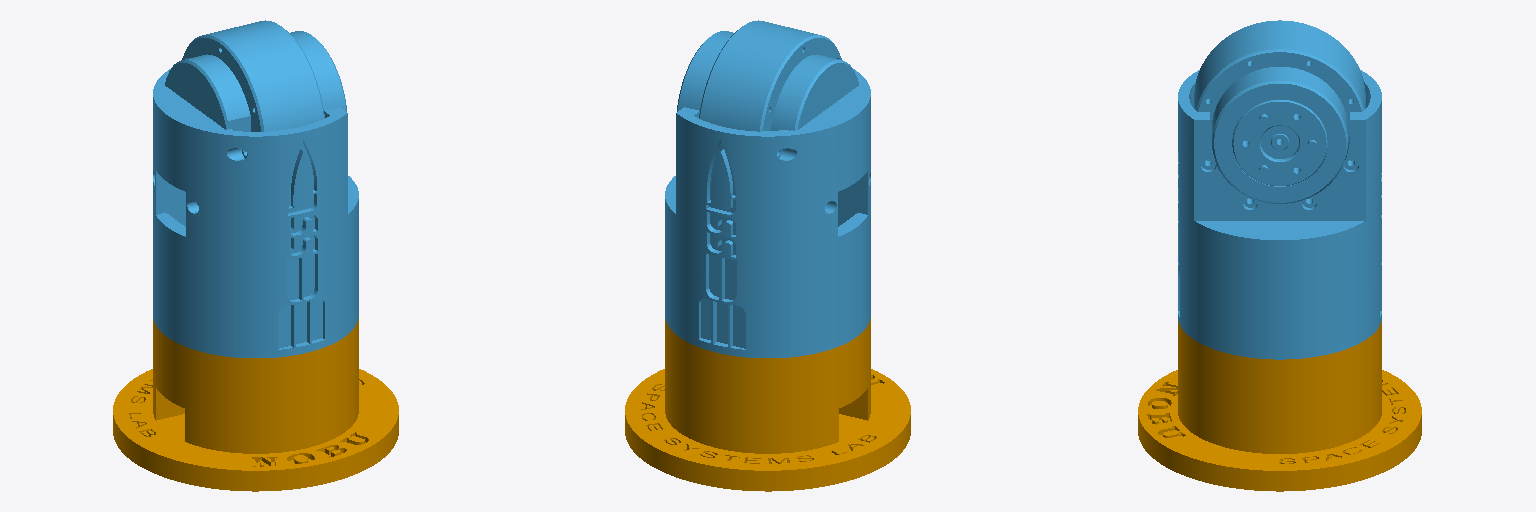
The robot description file, URDF, robot "nobu":
<?xml version="1.0" ?>
<robot name="nobu">

    <!-- base_link -->
    <link name="base_and_motor">
        <visual>
            <origin xyz="0 0 0" rpy="0 0 0" />
            <geometry>
                <mesh filename="package://meshes/NOBU_baselink_obj.obj" scale="0.001 0.001 0.001" />
            </geometry>
        </visual>
        <!-- <collision>
            <origin xyz="0 0 0" rpy="0 0 0" />
            <geometry>
                <mesh filename="package://meshes/NOBU_baselink_obj.obj" scale="0.001 0.001 0.001" />
            </geometry>
        </collision> -->

        <visual>
            <origin xyz="0 0 .0645" rpy="0 0 0" />
            <geometry>
                <mesh filename="package://meshes/RMD-X6-36_obj.obj" scale="0.0001 0.0001 0.0001" />
            </geometry>
        </visual>
    </link>

    <!-- Joint 1 -->
    <!-- 0.0445253 -->
    <link name="joint1">
        <visual>
            <origin xyz="0 0 0.045" rpy="0 0 0" />
            <geometry>
                <mesh filename="package://meshes/NOBU_joint1_update_obj.obj" scale="0.001 0.001 0.001" />
            </geometry>
        </visual>
        <collision>
            <origin xyz="0 0 0.0445253" rpy="0 0 0" />
            <geometry>
                <mesh filename="package://meshes/NOBU_joint1_update_obj.obj" scale="0.001 0.001 0.001" />
            </geometry>
        </collision>
        
        <visual>
            <origin xyz=".0325 0 .144" rpy="0 1.57079632679 0"/>
            <geometry>
                <mesh filename="package://meshes/RMD-X6-36_obj.obj" scale="0.0001 0.0001 0.0001"/>
            </geometry>
        </visual>
    </link>
    <joint name="joint1" type="revolute">
        <parent link="base_and_motor"/>
        <child link="joint1" />
        <origin xyz="0 0 0" rpy="0 0 0" />
        <axis xyz="0 0 1"/>
        <limit effort="100" velocity="100" lower="-6" upper="6"/>
    </joint>

    <!-- Joint 2 -->
    <link name="manip">
        <visual>
            <origin xyz="0 0 0" rpy="0 0 0"/>
            <geometry>
                <mesh filename="package://meshes/NOBU_joint1_2_obj.obj" scale="0.001 0.001 0.001"/>
            </geometry>
        </visual>
        <collision>
            <origin xyz="0 0 0" rpy="0 0 0"/>
            <geometry>
                <mesh filename="package://meshes/NOBU_joint1_2_obj.obj" scale="0.001 0.001 0.001"/>
            </geometry>
        </collision>
    </link>
    <joint name="manip" type="revolute">
        <parent link="joint1"/>
        <child link="manip"/>
        <origin xyz="0.1065 0 0.145" rpy="0 0 -1.57079632679"/>
        <axis xyz="0 1 0"/>
        <limit effort="100" velocity="100" lower="-6" upper="6"/>
    </joint>

</robot>

--- What the picture shows (computed from the rendered views, not written in the file) ---
3 views of the same robot in one strip: view 1: azimuth 30°, elevation 25°; view 2: azimuth 150°, elevation 25°; view 3: azimuth 270°, elevation 25° (orthographic).
Model nobu with 3 links and 2 joints (2 revolute), rooted at base_and_motor, posed every joint at zero.
Visible links, largest first — view 1: joint1, base_and_motor; view 2: joint1, base_and_motor; view 3: joint1, base_and_motor.
Boxes of the visible links, bbox=[...] form: joint1: bbox=[153, 20, 358, 357]; base_and_motor: bbox=[113, 319, 398, 491]; joint1: bbox=[665, 20, 870, 357]; base_and_motor: bbox=[625, 319, 910, 491]; joint1: bbox=[1178, 20, 1381, 359]; base_and_motor: bbox=[1138, 321, 1421, 491].
Bounding box of the posed robot: 0.125 × 0.125 × 0.192 m (x, y, z).
Meshes: 4 distinct files referenced, 4 mesh visuals loaded (3 OBJ); not drawn: 1 (reference not matched to a file when rendering).
